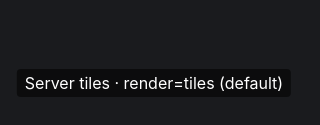
RenderLabel › says so when there is nothing yet
What coordinates should you click on to do the following:
click the button with test id "render-label"
I would click on:
 (154, 83)
Its box is [17, 69, 291, 97].
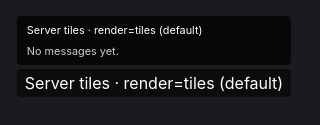
Result: the element showing "Server tiles · render=tiles (default) No messages yet." is shown at [17, 16, 291, 65]
